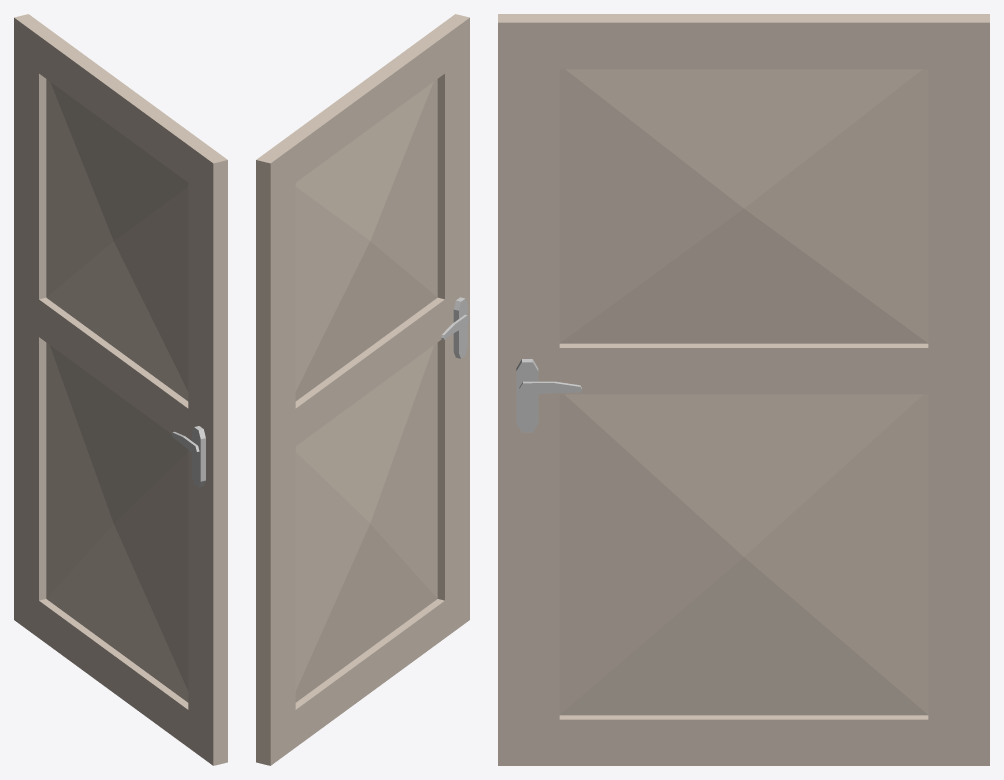
File: Door.fbx
3 renders of one model, left to right at view 1: azimuth 30°, elevation 25°; view 2: azimuth 150°, elevation 25°; view 3: azimuth 270°, elevation 25°, orthographic. The views are drawn at different scales.
Parts seen in each view (by area): view 1: Door; view 2: Door; view 3: Door.
Part boxes in pixels (x1,y1,x2,y2): Door: (14, 14, 227, 765); Door: (256, 14, 469, 765); Door: (498, 14, 989, 765).
Bounding box in the file's own units: 0.116 × 2.22 × 1.33.
